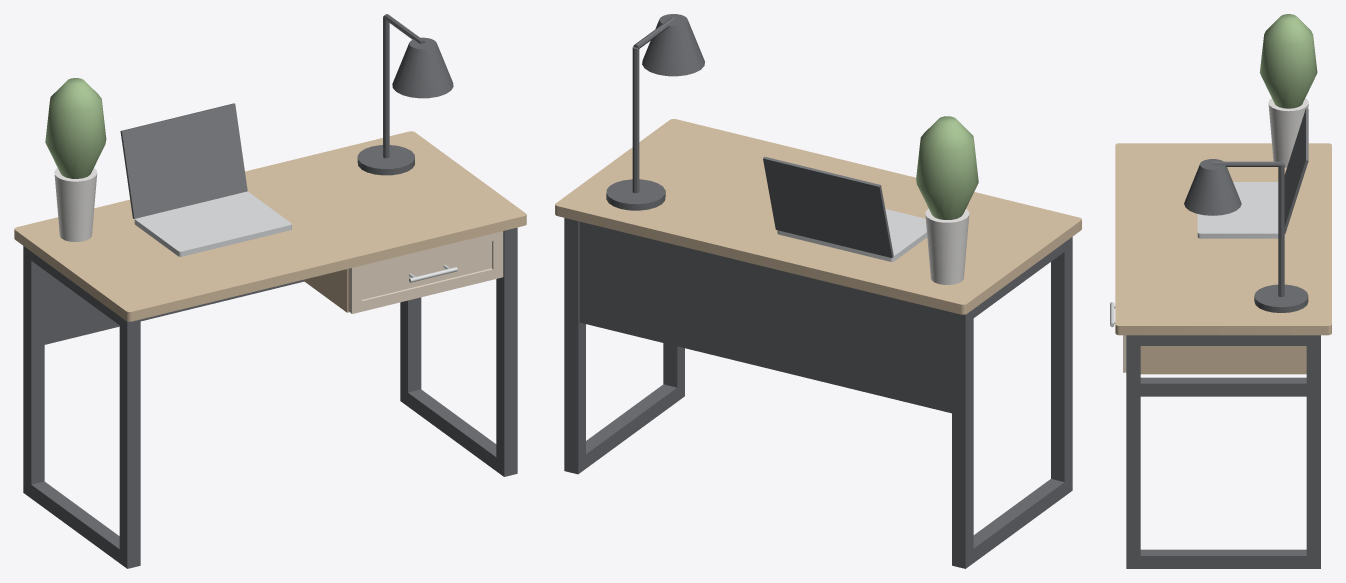
3 renders of one model, left to right at view 1: azimuth 30°, elevation 25°; view 2: azimuth 150°, elevation 25°; view 3: azimuth 270°, elevation 25°, orthographic. The views are drawn at different scales.
Parts seen in each view (by area): view 1: Bàn học Dài=1200; Sâu=600; view 2: Bàn học Dài=1200; Sâu=600; view 3: Bàn học Dài=1200; Sâu=600.
Part boxes in pixels (bbox=[...]): Bàn học Dài=1200; Sâu=600: bbox=[14, 14, 526, 568]; Bàn học Dài=1200; Sâu=600: bbox=[555, 14, 1081, 568]; Bàn học Dài=1200; Sâu=600: bbox=[1110, 14, 1331, 568].
Bounding box in the file's own units: 1.2 × 1.19 × 0.615.
